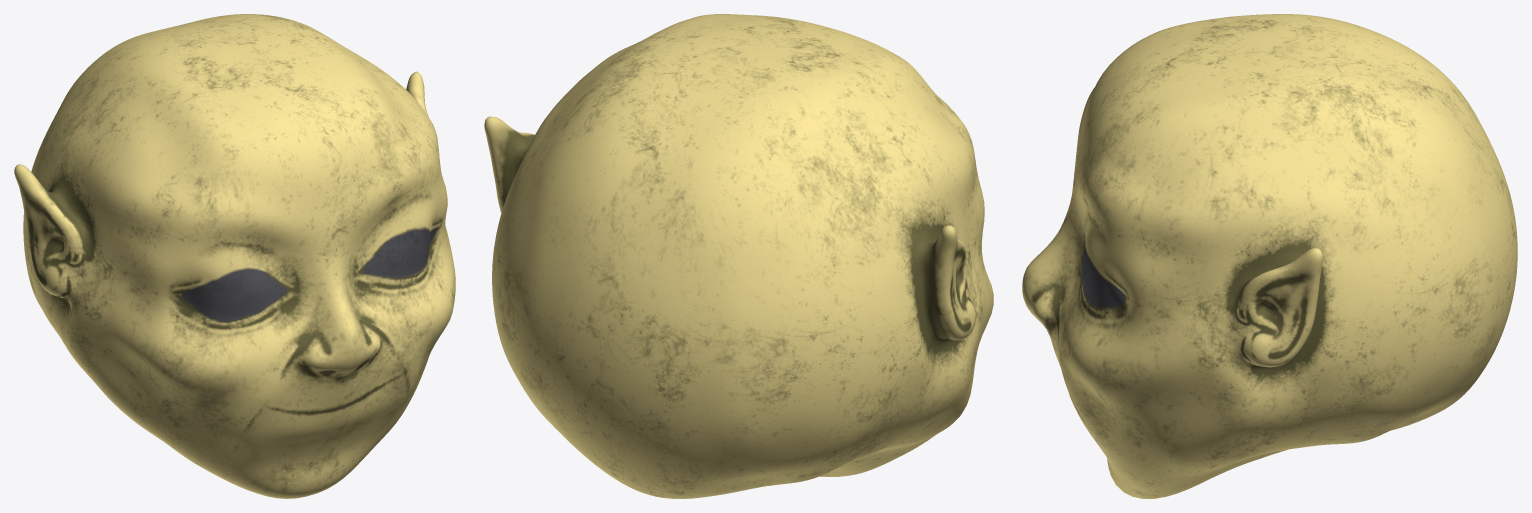
File: goblin.fbx
3 views of the same model, side by side, from view 1: azimuth 30°, elevation 25°; view 2: azimuth 150°, elevation 25°; view 3: azimuth 270°, elevation 25° (orthographic). The views are drawn at different scales.
Visible parts, largest first — view 1: goblin; view 2: goblin; view 3: goblin.
Part boxes in pixels (x1,y1,x2,y2): goblin: (14, 14, 455, 498); goblin: (484, 14, 993, 498); goblin: (1022, 14, 1517, 498).
Size of the model in its own units: 23262 by 22194 by 22550.
